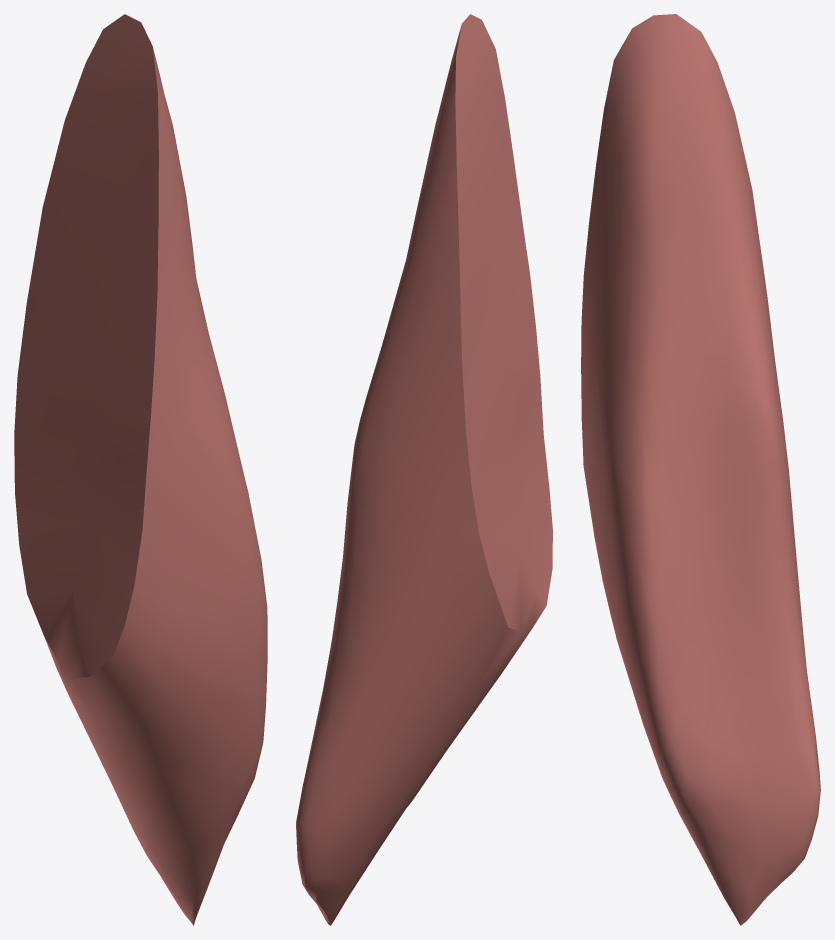
The model's file is fma63230_mm1773m.glb.
3 renders of one model, left to right at view 1: azimuth 30°, elevation 25°; view 2: azimuth 150°, elevation 25°; view 3: azimuth 270°, elevation 25°, orthographic. The views are drawn at different scales.
Visible parts, largest first — view 1: FMA63230_MM1773M; view 2: FMA63230_MM1773M; view 3: FMA63230_MM1773M.
Boxes of the visible parts, x1,y1,x2,y2 form: FMA63230_MM1773M: (14, 14, 267, 925); FMA63230_MM1773M: (296, 14, 552, 925); FMA63230_MM1773M: (581, 14, 820, 925).
Size of the model in its own units: 0.00936 by 0.0424 by 0.0106.
